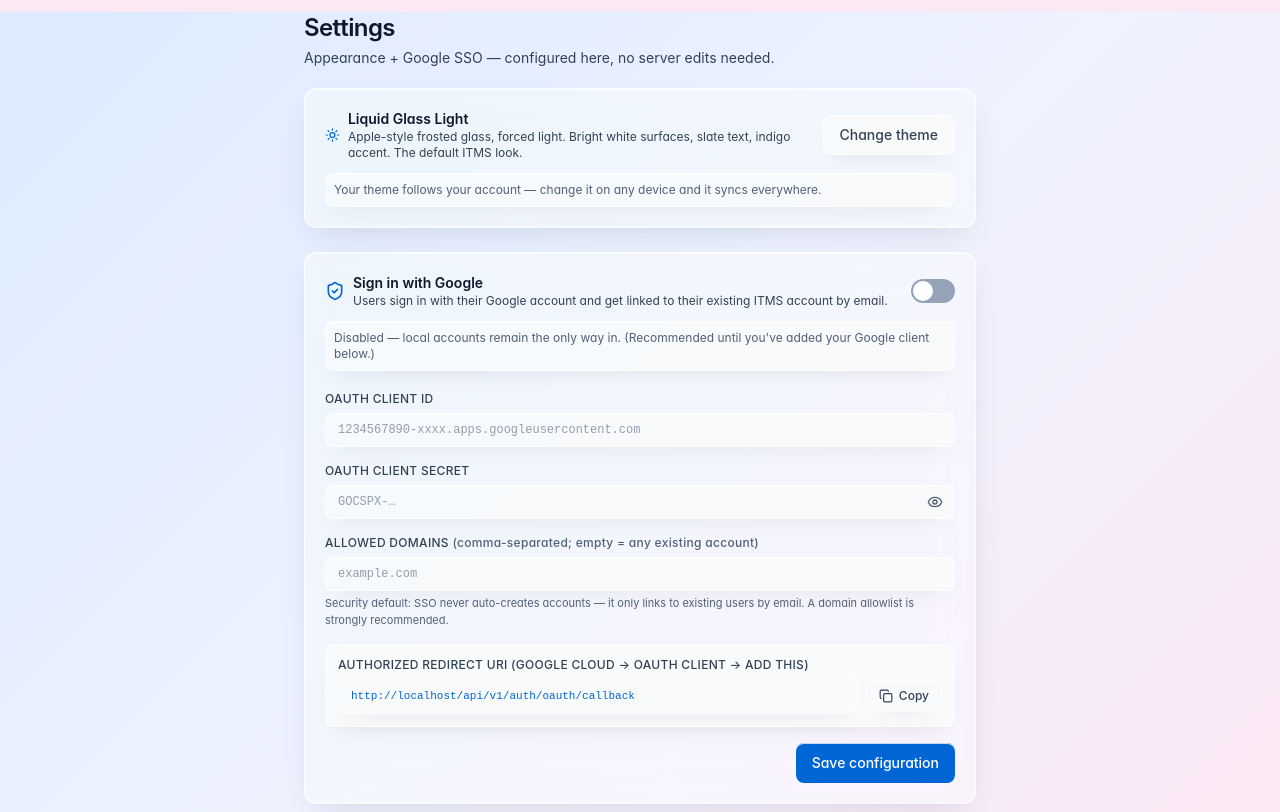
Scenario: Settings OAuth (task 8) › copies the authorized redirect uri with confirmation
Click the button "Copy" at (904, 696), box [866,680,942,712]
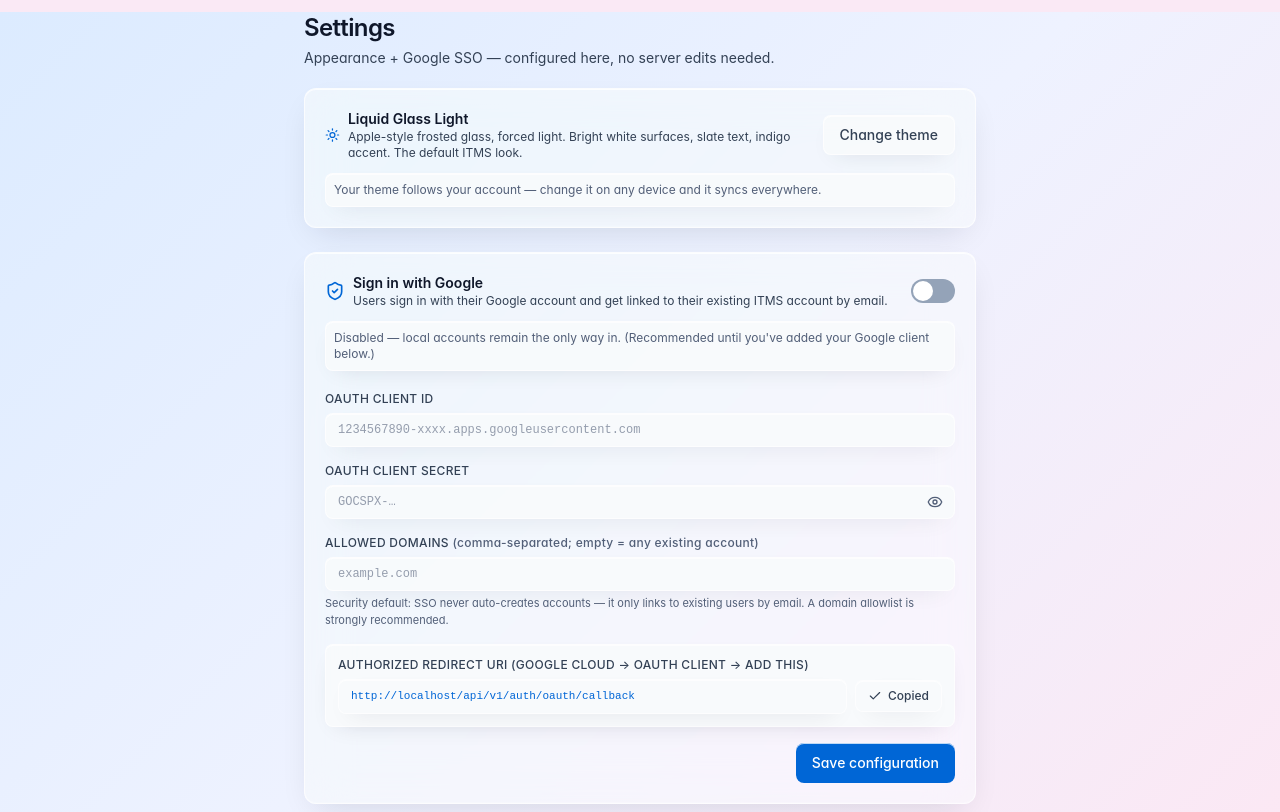
Check: the text "Copied" is shown, box [888,688,929,704]
